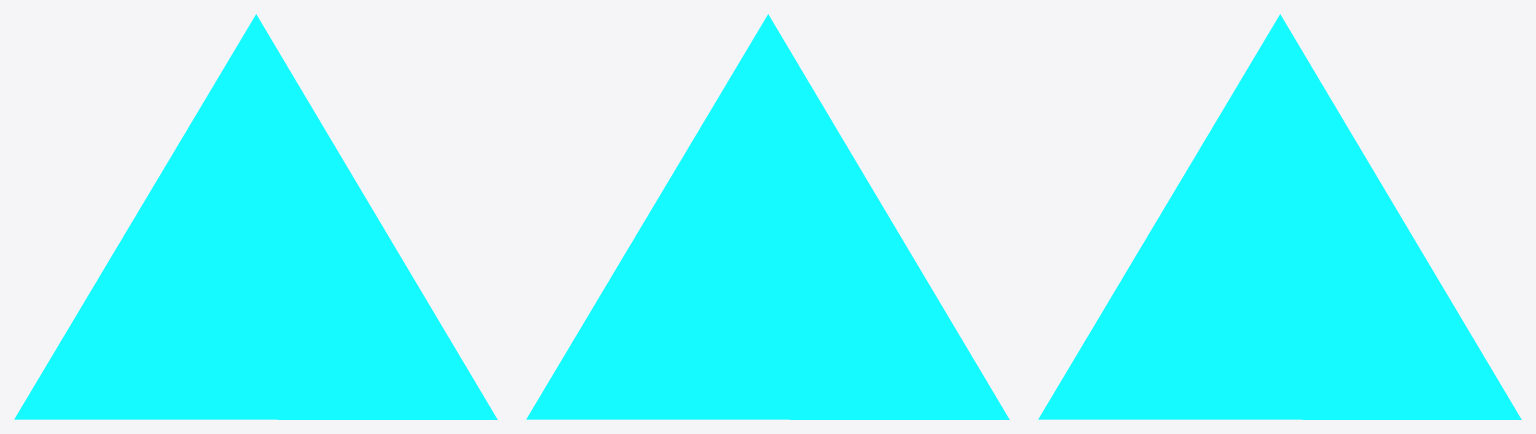
File: prism.fbx
3 views of the same model, side by side, from view 1: azimuth 30°, elevation 25°; view 2: azimuth 150°, elevation 25°; view 3: azimuth 270°, elevation 25° (orthographic).
Visible parts, largest first — view 1: Cone.001; view 2: Cone.001; view 3: Cone.001.
Boxes of the visible parts, x1,y1,x2,y2 form: Cone.001: [14, 14, 497, 419]; Cone.001: [526, 14, 1009, 419]; Cone.001: [1038, 14, 1521, 419].
Size of the model in its own units: 159 by 145 by 184.
